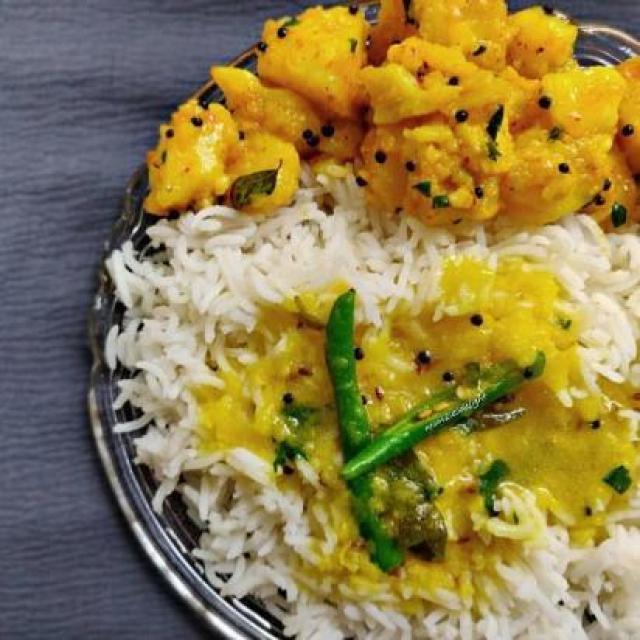Rice: (124, 233, 640, 640)
